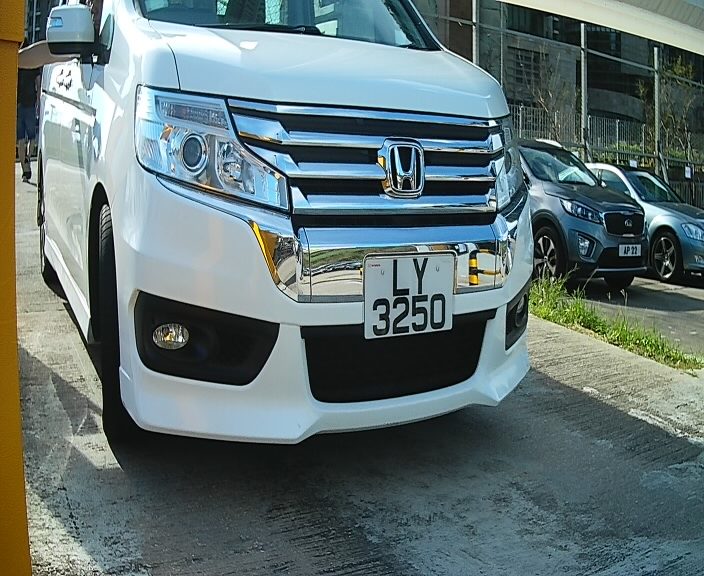Car: (6, 2, 555, 493)
License Plate: (359, 241, 463, 351)
